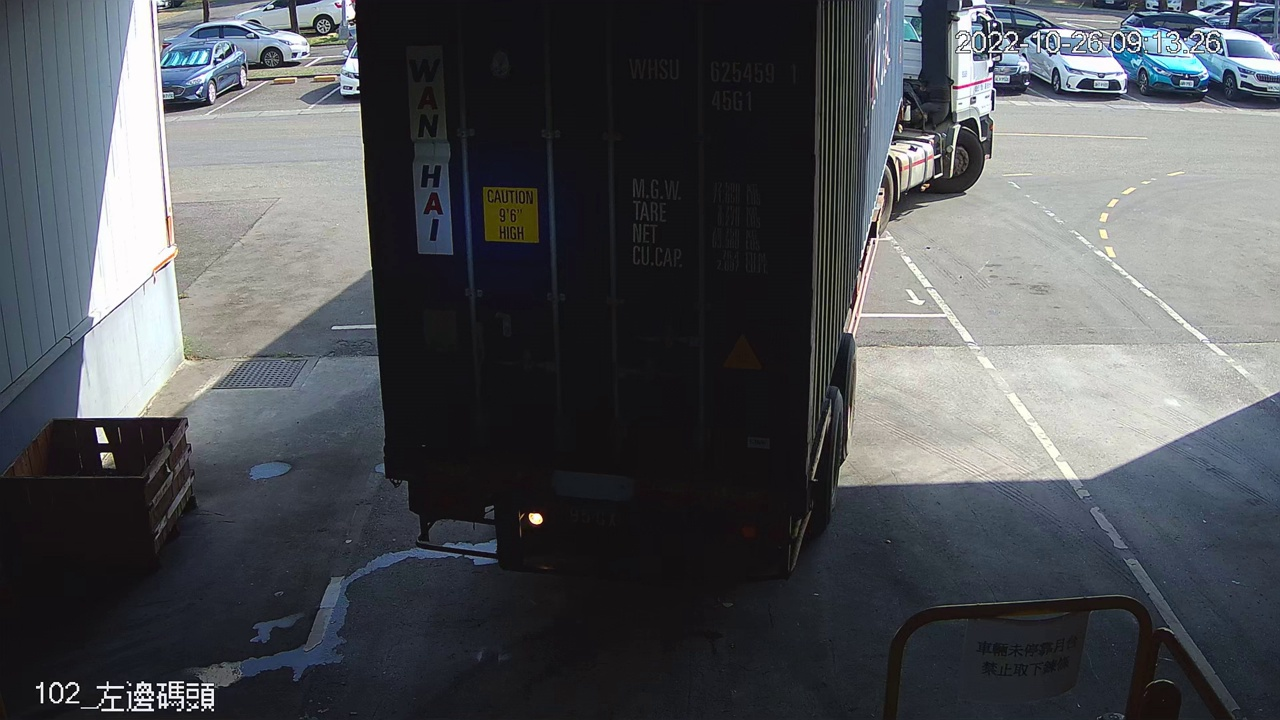container: (621, 46, 807, 118)
